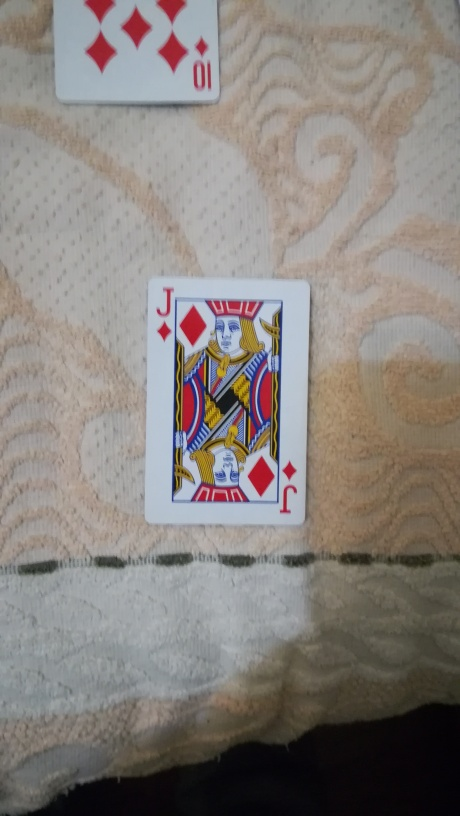fk j: (140, 270, 316, 529)
